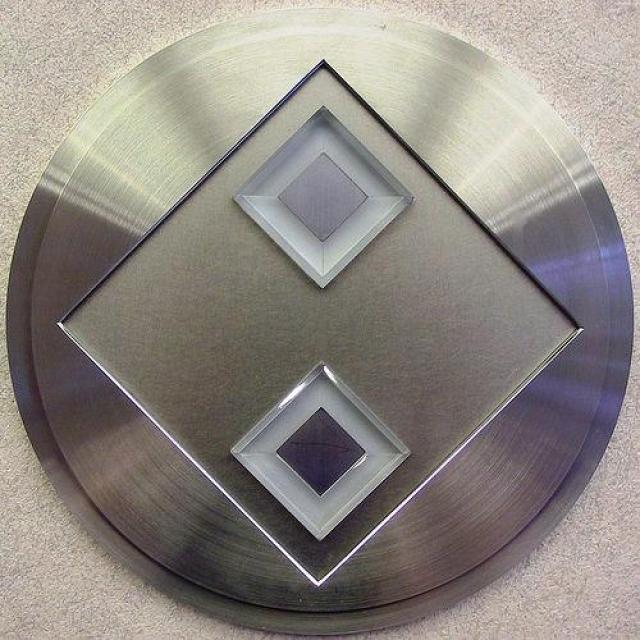empty: (223, 102, 420, 292), (215, 357, 416, 540)
